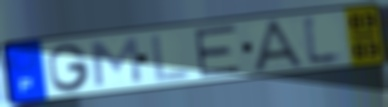A: (251, 17, 310, 73)
E: (191, 23, 244, 80)
G: (45, 41, 93, 93)
L: (300, 12, 349, 69), (149, 31, 192, 84)
M: (89, 35, 144, 89)
